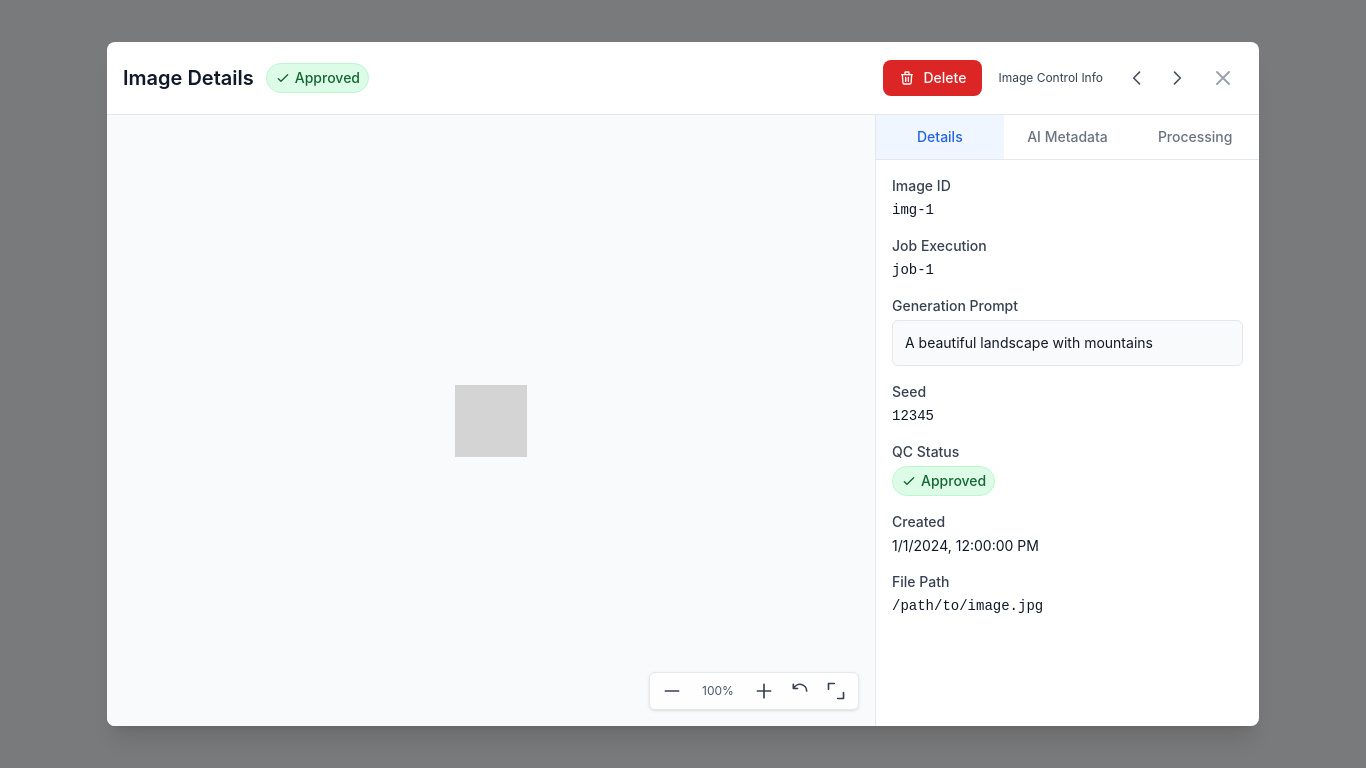
Test case: ImageModal › switches between tabs
The width and height of the screenshot is (1366, 768).
Expected: the text "A beautiful landscape with mountains" is shown, [892, 320, 1243, 366]
// Switch to AI Metadata tab
Click the button "AI Metadata" at (1068, 137), box [1004, 115, 1131, 159]
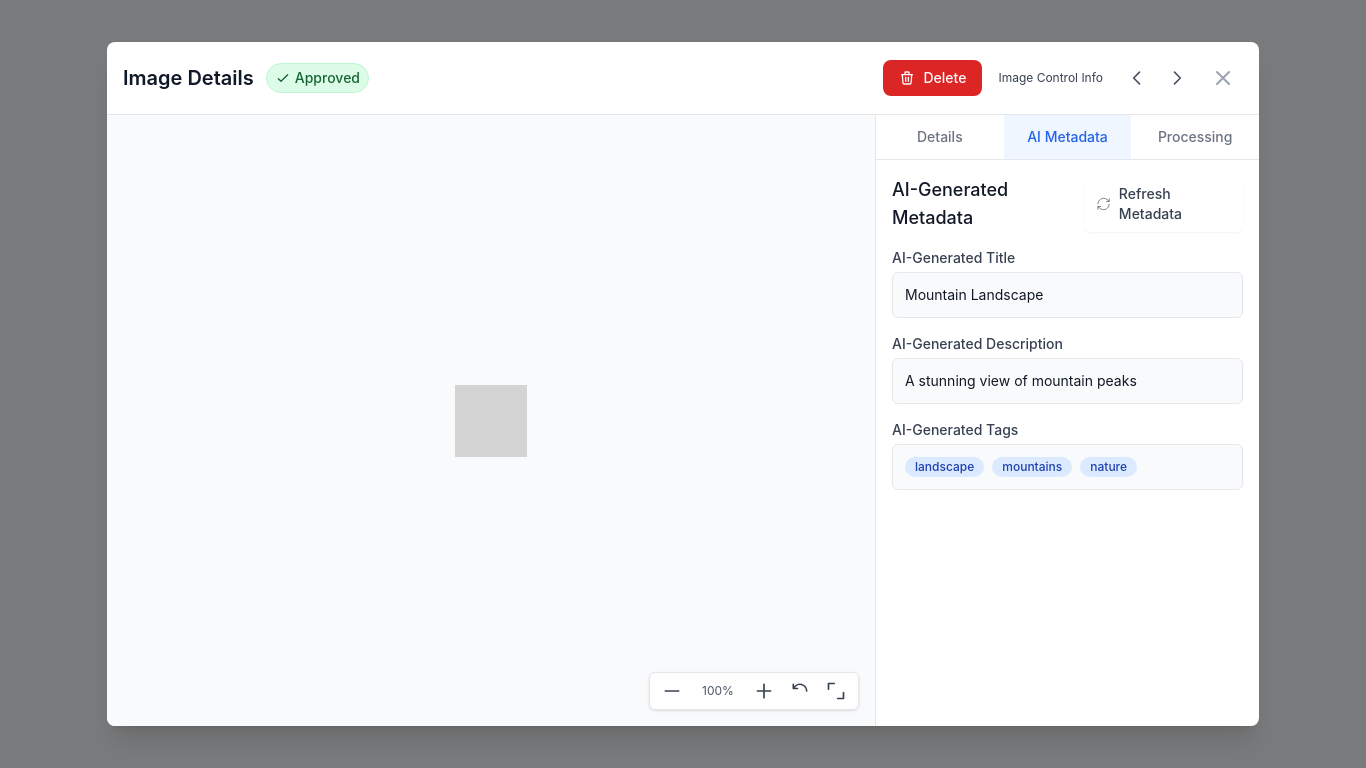
Now the text "Mountain Landscape" is shown, box [892, 272, 1243, 318]
Now the text "A stunning view of mountain peaks" is shown, box [892, 358, 1243, 404]
// Switch to Processing tab
Click the button "Processing" at (1195, 137), box [1131, 115, 1259, 159]
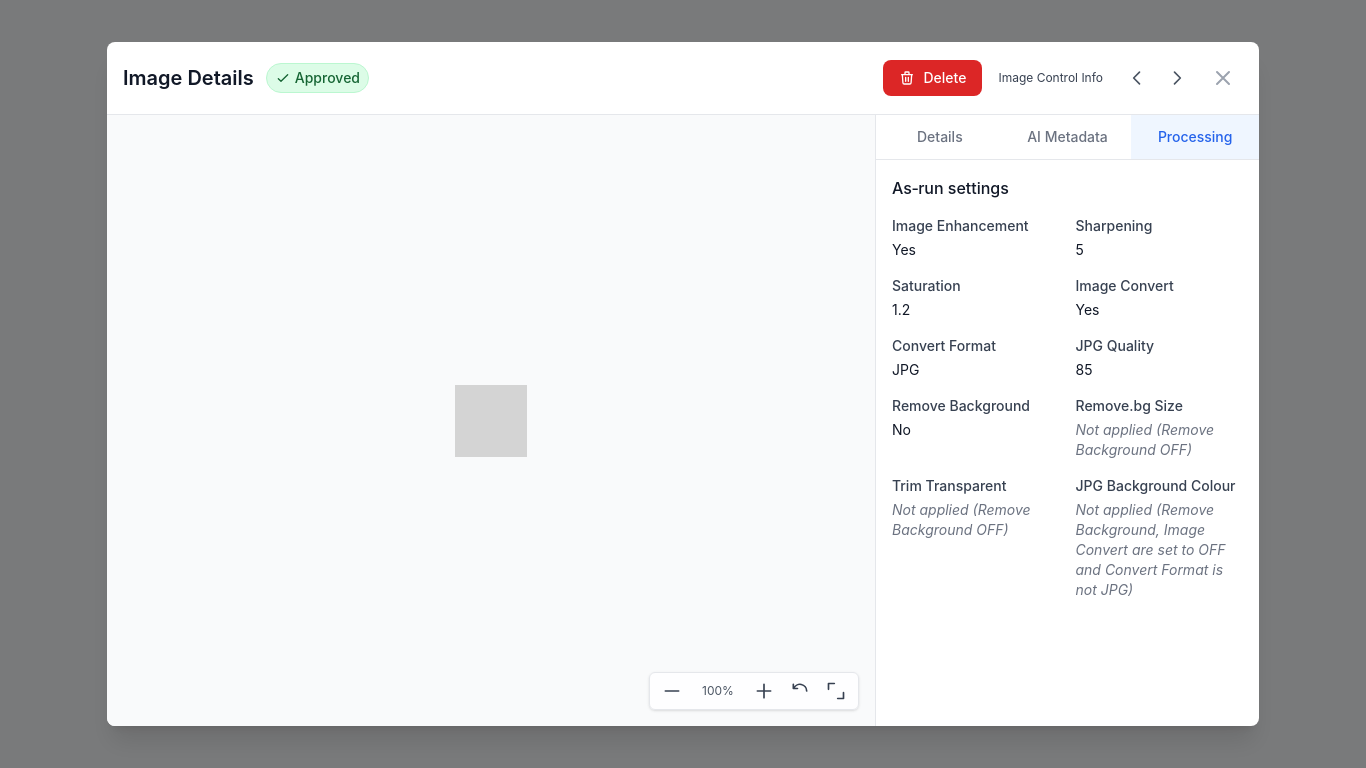
Now the text "Image Enhancement" is shown, box [892, 217, 1029, 234]
